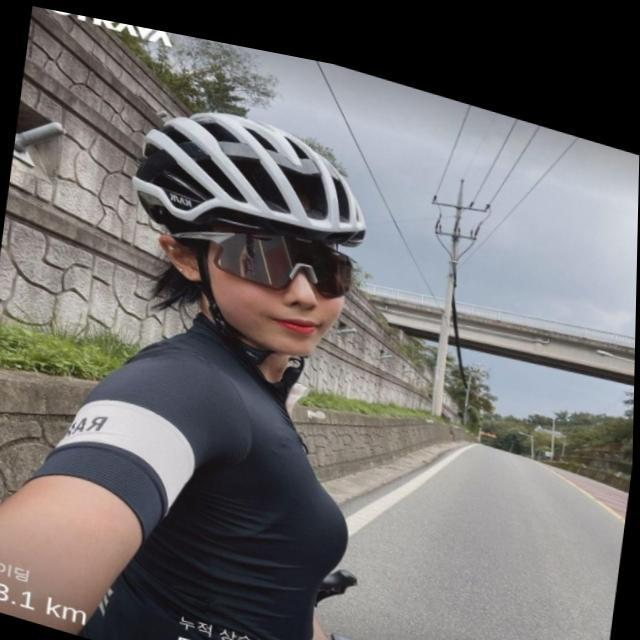Helmet: (123, 96, 377, 384)
